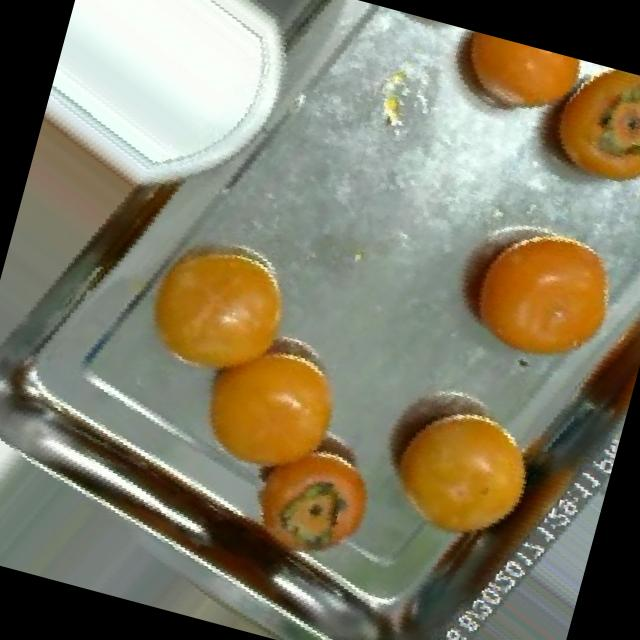Fruit: (410, 178, 640, 403), (341, 358, 574, 578), (107, 196, 330, 416), (164, 302, 379, 508), (504, 47, 640, 217), (422, 22, 604, 146)
